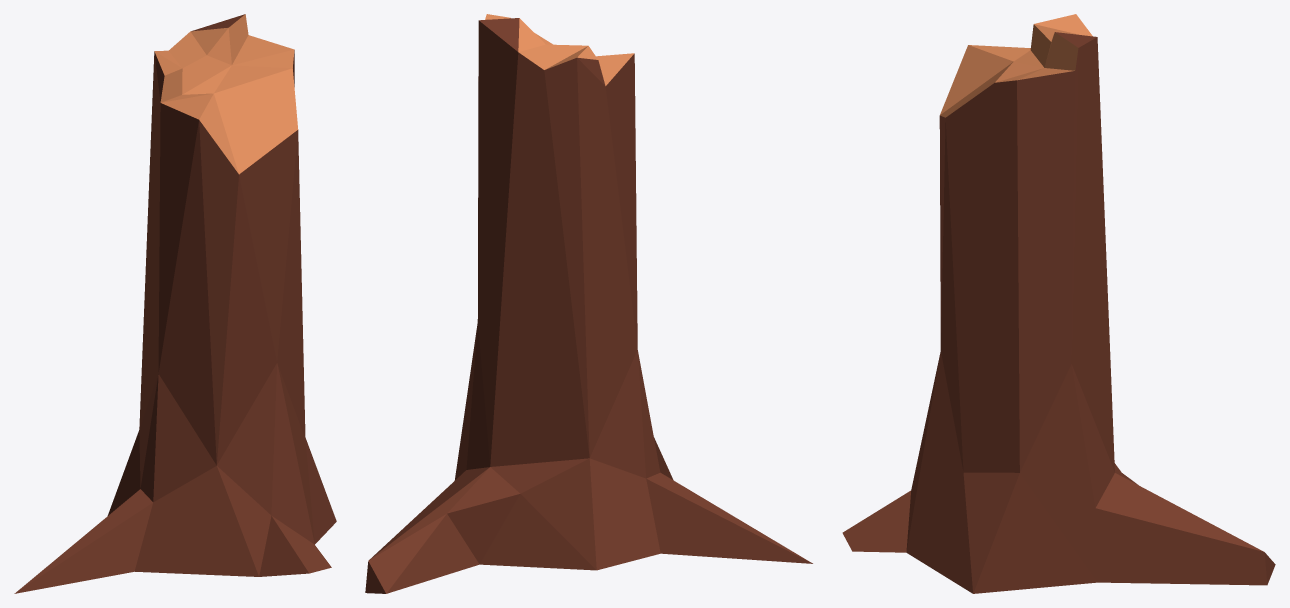
File: pine_trunk_type_8_LOD2.fbx
The picture shows the model from 3 angles, left to right: view 1: azimuth 30°, elevation 25°; view 2: azimuth 150°, elevation 25°; view 3: azimuth 270°, elevation 25°; orthographic projection. The views are drawn at different scales.
Parts seen in each view (by area): view 1: pt_type_8; view 2: pt_type_8; view 3: pt_type_8.
Boxes of the visible parts, x1,y1,x2,y2 form: pt_type_8: (14,14,336,593); pt_type_8: (365,14,812,593); pt_type_8: (842,14,1275,593).
Size of the model in its own units: 260 by 381 by 283.
